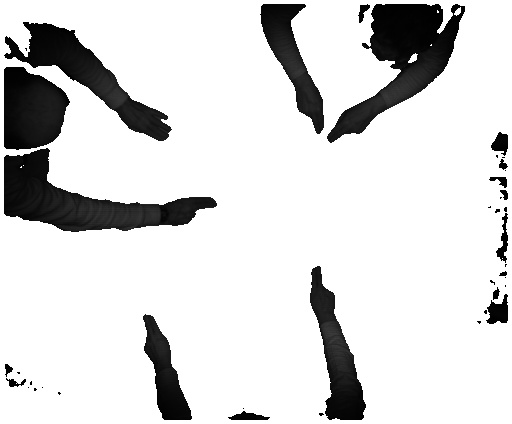hand: (170, 192, 223, 231), (304, 264, 343, 316), (288, 87, 328, 137), (136, 312, 175, 360), (127, 105, 175, 143), (329, 105, 377, 143)
